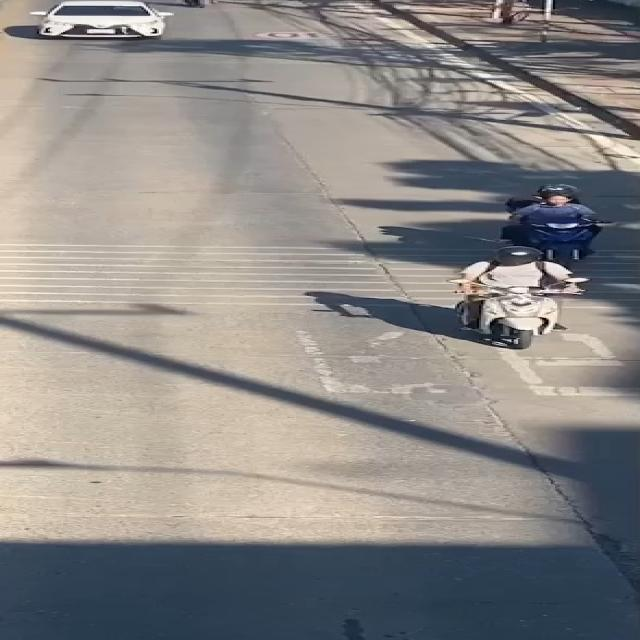car: (8, 0, 191, 47)
